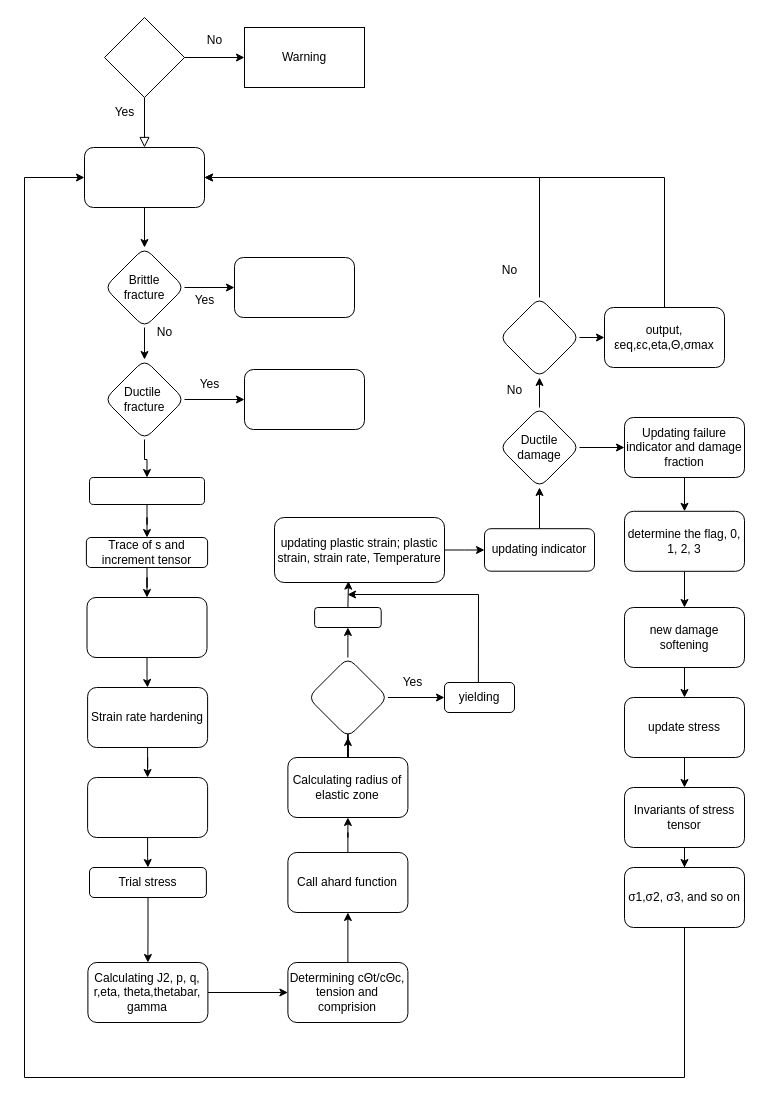
The diagram is 762 pixels wide and 1103 high, and some of its shapes have lost their labels. Here are the shapes that lost their labels. From the top down, the centre of each, then its label:
(144,57): m>0
(144,177): Do loop nblock times
(294,287): Go to 100 (end)
(539,337): brittle damage
(304,399): Go to 100 valent set
(146,490): Updating total strain
(146,627): Temperature softening correction
(347,617): no yield
(347,697): q-radius>0
(147,807): Ductile damage softening
